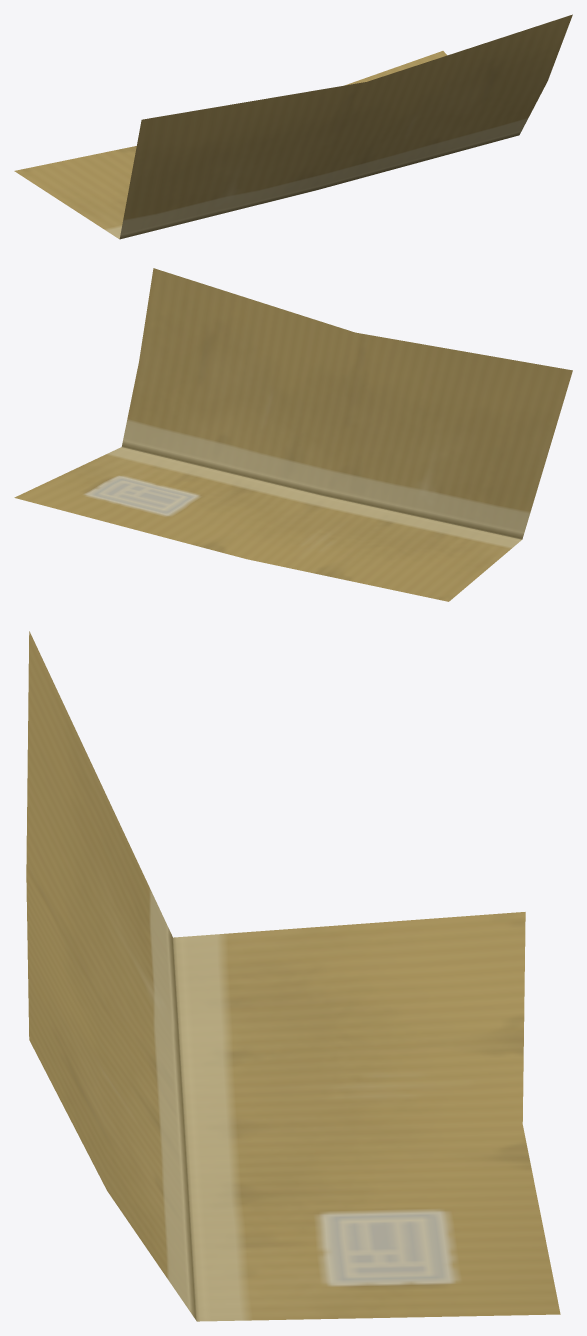
File: p_mesh_vegetablebox_part01_pose0.fbx
3 views of the same model, one above another, from view 1: azimuth 30°, elevation 25°; view 2: azimuth 150°, elevation 25°; view 3: azimuth 270°, elevation 25° (orthographic). The views are drawn at different scales.
Visible parts, largest first — view 1: p_stackedpaper_paper01_pose0; view 2: p_stackedpaper_paper01_pose0; view 3: p_stackedpaper_paper01_pose0.
Part boxes in pixels (bbox=[...]): p_stackedpaper_paper01_pose0: bbox=[14, 14, 572, 239]; p_stackedpaper_paper01_pose0: bbox=[14, 268, 572, 601]; p_stackedpaper_paper01_pose0: bbox=[26, 631, 560, 1321].
Bounding box in the file's own units: 4.14 × 1.38 × 2.25.
